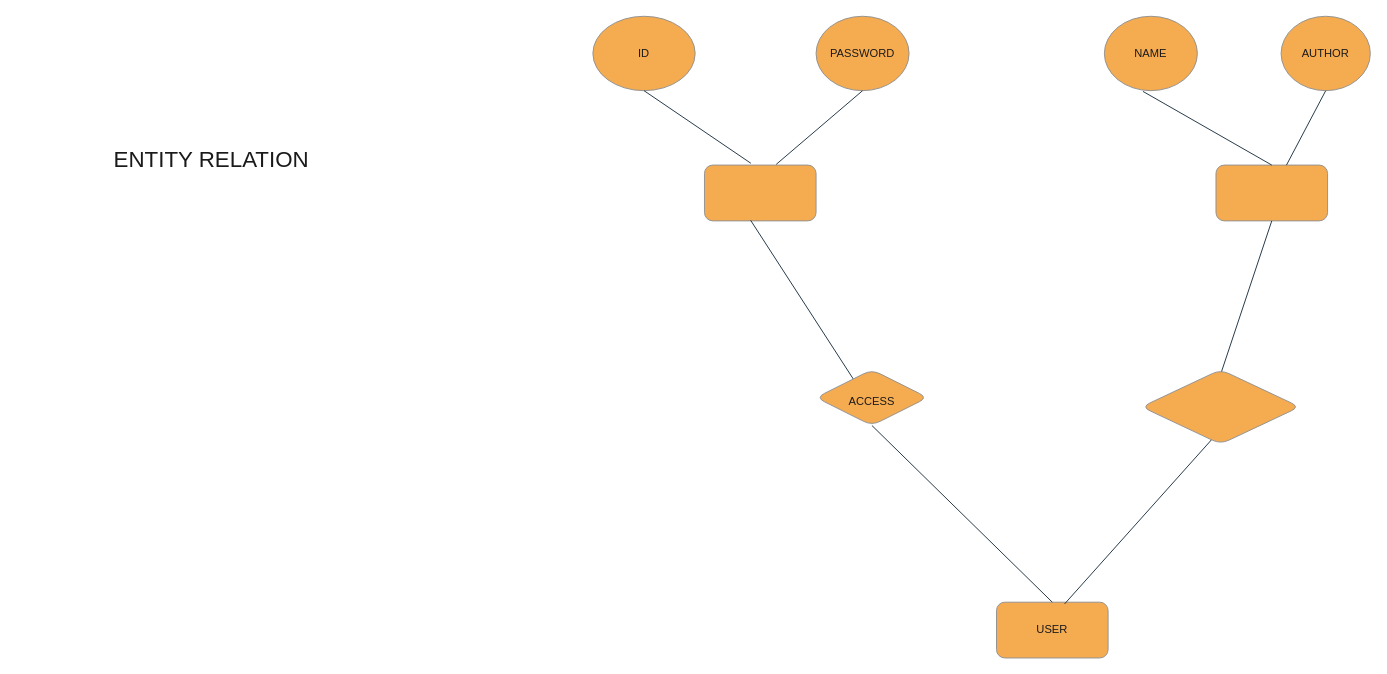
Image size: 1387x674. Some labels were removed from this diagram. The centre of each missing label's shape, as x and y in pixels:
"AUTHORISATION" belongs at point (1220, 406).
"BOOK" belongs at point (1271, 192).
"LOGIN" belongs at point (760, 192).
